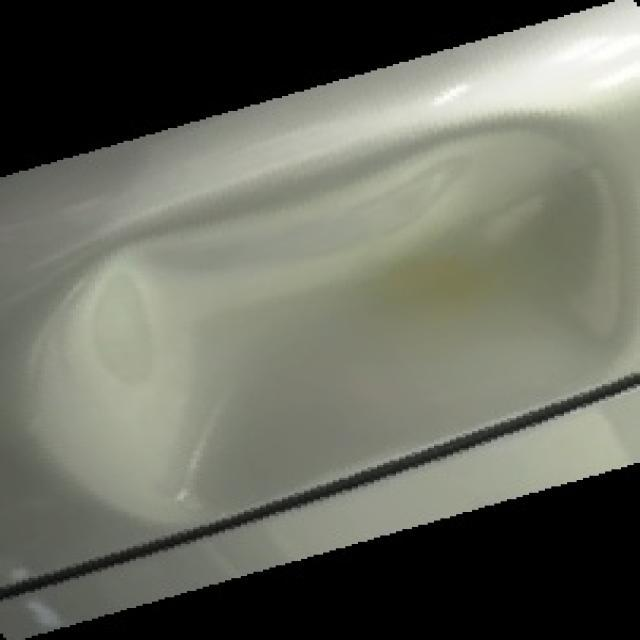dent: (39, 114, 635, 528)
